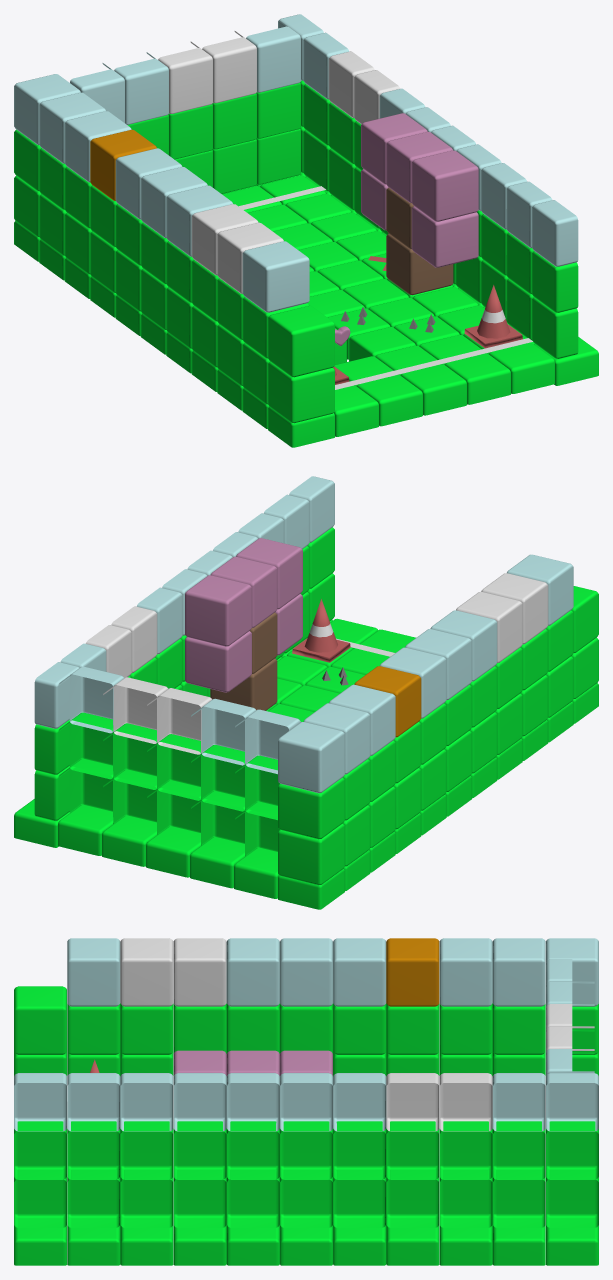
Rendered from team.fbx.
The picture shows the model from 3 angles, top to bottom: view 1: azimuth 30°, elevation 25°; view 2: azimuth 150°, elevation 25°; view 3: azimuth 270°, elevation 25°; orthographic projection. The views are drawn at different scales.
Parts seen in each view (by area): view 1: tree4, polySurface400, polySurface384, tree2, polySurface350, polySurface471, polySurface468, polySurface465, polySurface462, polySurface449, tree, polySurface396 (+100 smaller); view 2: polySurface398, tree6, tree3, polySurface355, polySurface392, polySurface468, polySurface471, polySurface465, polySurface462, polySurface403, polySurface405, polySurface396 (+82 smaller); view 3: polySurface396, polySurface403, polySurface404, polySurface405, polySurface395, polySurface400, polySurface399, polySurface402, polySurface384, polySurface401, polySurface429, polySurface430 (+69 smaller).
Part boxes in pixels (left/top/right/bottom): tree4: left=411, top=150, right=478, bottom=221; polySurface400: left=242, top=241, right=309, bottom=312; polySurface384: left=268, top=306, right=334, bottom=377; tree2: left=411, top=206, right=478, bottom=267; polySurface350: left=268, top=361, right=334, bottom=423; polySurface471: left=246, top=20, right=300, bottom=92; polySurface468: left=202, top=31, right=256, bottom=103; polySurface465: left=158, top=41, right=212, bottom=113; polySurface462: left=114, top=52, right=168, bottom=124; polySurface449: left=532, top=200, right=578, bottom=266; tree: left=386, top=233, right=453, bottom=295; polySurface396: left=64, top=111, right=131, bottom=182; polySurface398: left=278, top=722, right=344, bottom=793; tree6: left=185, top=575, right=251, bottom=646; tree3: left=185, top=631, right=251, bottom=692; polySurface355: left=278, top=823, right=344, bottom=885; polySurface392: left=278, top=777, right=344, bottom=839; polySurface468: left=103, top=677, right=168, bottom=743; polySurface471: left=59, top=666, right=123, bottom=733; polySurface465: left=147, top=688, right=212, bottom=754; polySurface462: left=191, top=698, right=255, bottom=765; polySurface403: left=481, top=573, right=548, bottom=644; polySurface405: left=354, top=666, right=421, bottom=737; polySurface396: left=329, top=684, right=395, bottom=755; polySurface396: left=439, top=938, right=492, bottom=1006; polySurface403: left=120, top=938, right=173, bottom=1006; polySurface404: left=173, top=938, right=226, bottom=1006; polySurface405: left=386, top=938, right=439, bottom=1006; polySurface395: left=492, top=938, right=545, bottom=1006; polySurface400: left=67, top=938, right=120, bottom=1006; polySurface399: left=333, top=938, right=386, bottom=1006; polySurface402: left=226, top=938, right=279, bottom=1006; polySurface384: left=14, top=986, right=66, bottom=1054; polySurface401: left=280, top=938, right=332, bottom=1006; polySurface429: left=120, top=1169, right=173, bottom=1227; polySurface430: left=173, top=1169, right=226, bottom=1227.
Bounding box in the file's own units: 69.9 × 44.44 × 110.
Materials: 8 (1 with a texture image).
